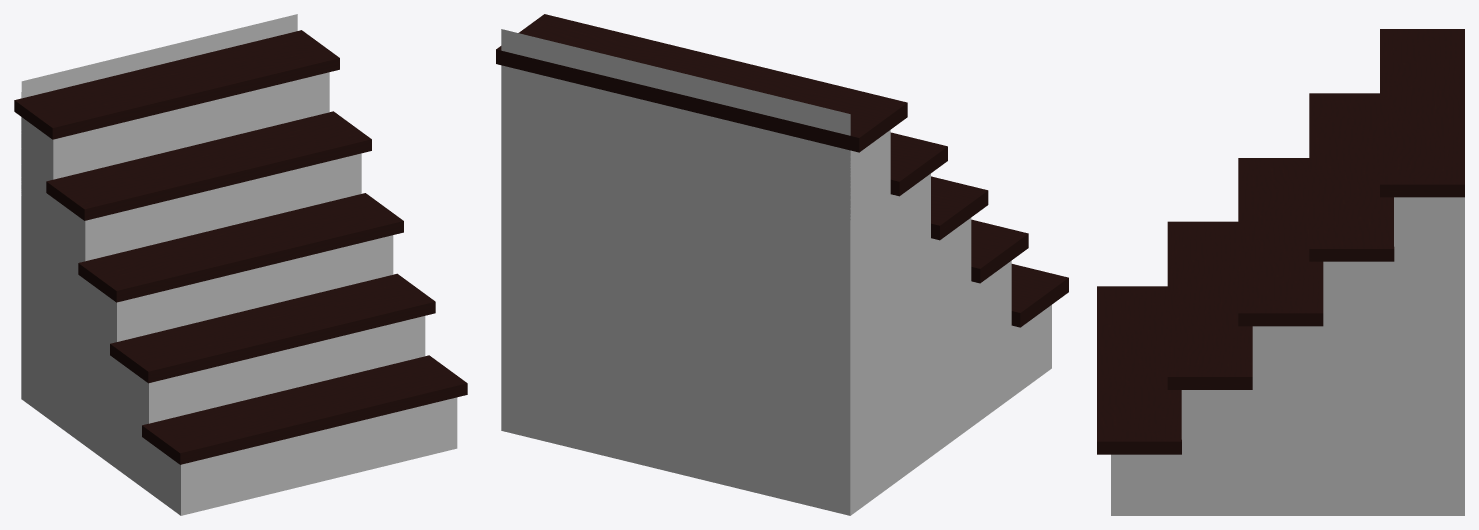
Rendered from Stairway_Short_B_07.FBX.
3 renders of one model, left to right at view 1: azimuth 30°, elevation 25°; view 2: azimuth 150°, elevation 25°; view 3: azimuth 270°, elevation 25°, orthographic. The views are drawn at different scales.
Visible parts, largest first — view 1: Stairway_Short; view 2: Stairway_Short; view 3: Stairway_Short.
Boxes of the visible parts, x1,y1,x2,y2 form: Stairway_Short: (14,14,467,515); Stairway_Short: (496,14,1068,515); Stairway_Short: (1097,29,1464,515).
Size of the model in its own units: 10236 by 10821 by 10230.
